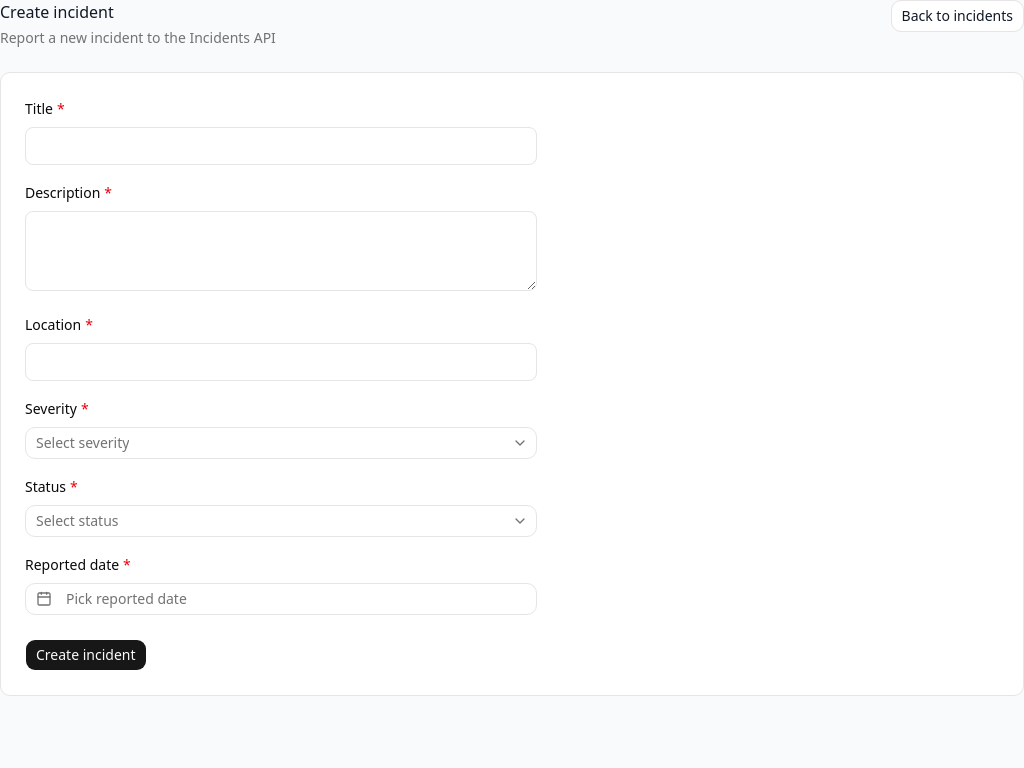
IncidentCreateView › shows validation errors for each required field when submitting empty
Click the button "Create incident": [86, 655] box 25,639 -> 146,671
(page scrolled)
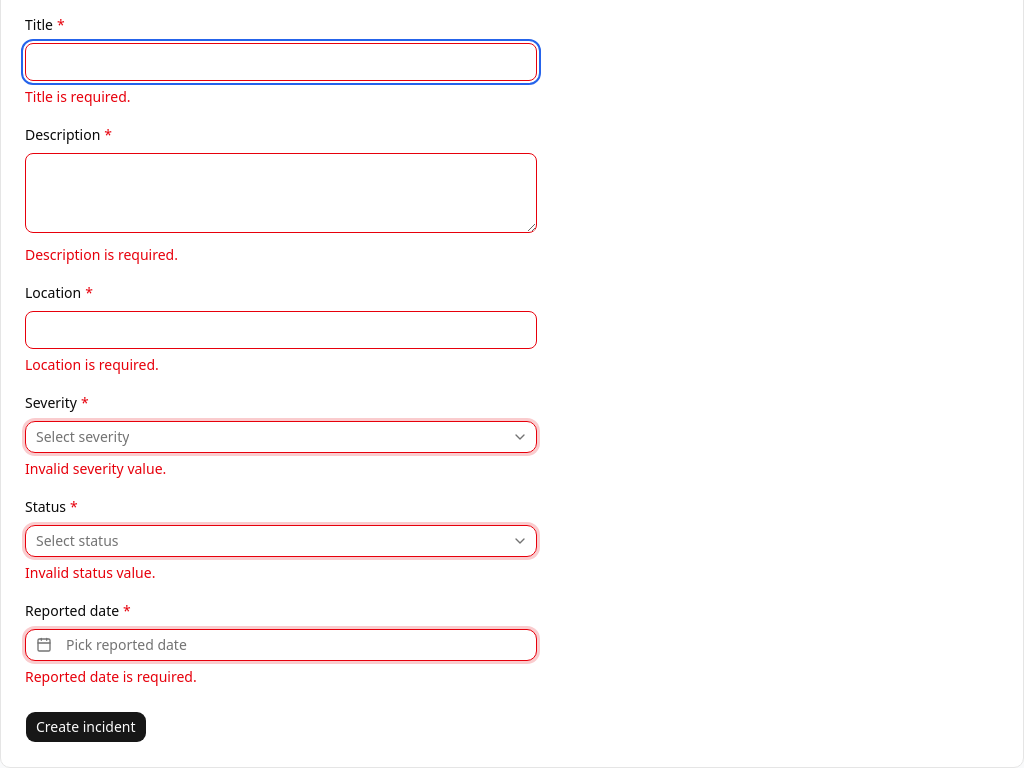
Expected: the text "Title is required." is shown, 25,87 -> 131,106
Expected: the text "Description is required." is shown, 25,245 -> 178,264
Expected: the text "Location is required." is shown, 25,355 -> 159,374
